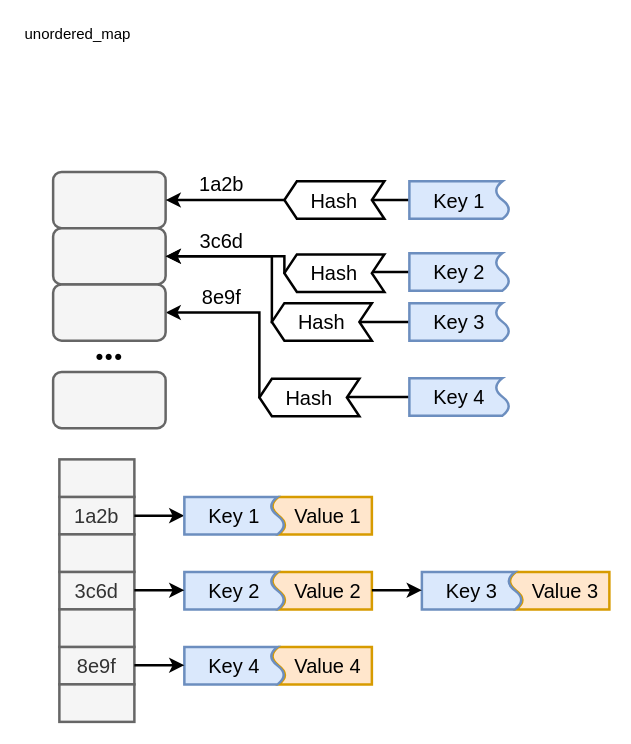
The diagram is 631 pixels wide and 744 high, and some of its shapes have lost their labels. Each missing label, with the box of its shape:
Bucket ...: (51, 370, 166, 429)
Bucket 1a2b: (51, 170, 166, 229)
Bucket 3c6d: (51, 226, 166, 285)
Bucket 8e9f: (51, 282, 166, 341)
